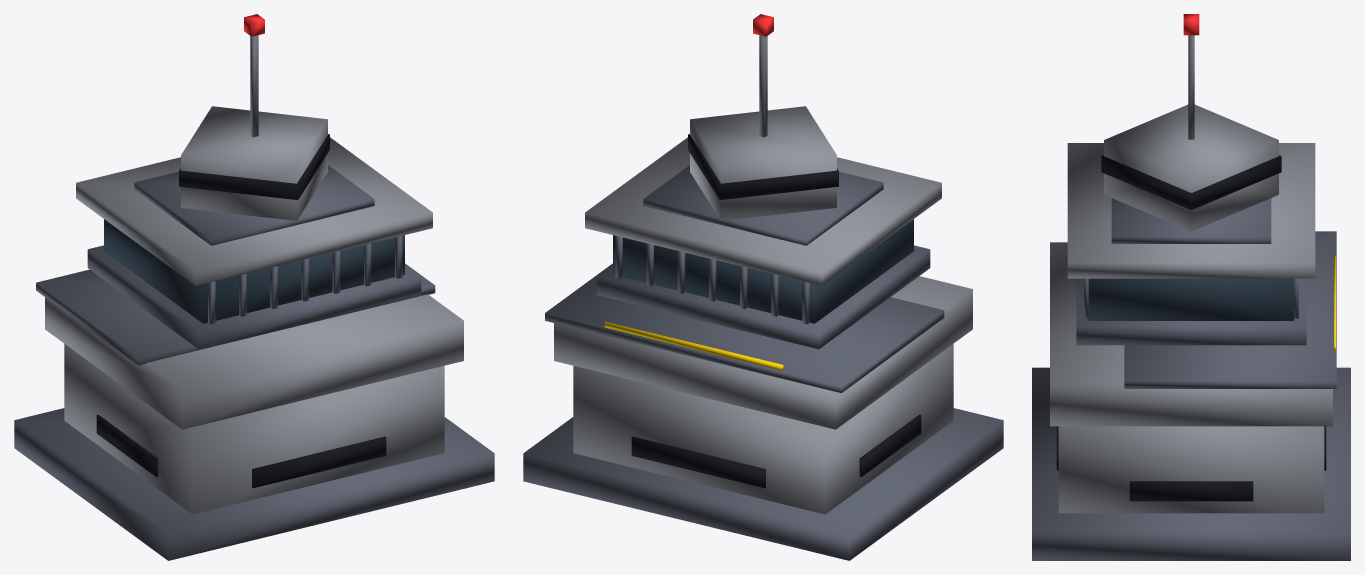
Rendered from kurogane_grand_reverse_tower.glb.
3 renders of one model, left to right at view 1: azimuth 30°, elevation 25°; view 2: azimuth 150°, elevation 25°; view 3: azimuth 270°, elevation 25°, orthographic. The views are drawn at different scales.
Visible parts, largest first — view 1: Surface_concrete, Surface_concrete_dark, Surface_glass, Surface_slit, Surface_steel; view 2: Surface_concrete, Surface_concrete_dark, Surface_glass, Surface_slit, Surface_accent, Surface_steel; view 3: Surface_concrete, Surface_concrete_dark, Surface_glass, Surface_slit, Surface_steel.
Part boxes in pixels (x1,y1,x2,y2): Surface_concrete: (45, 106, 463, 514); Surface_concrete_dark: (14, 165, 494, 560); Surface_glass: (104, 219, 404, 323); Surface_slit: (96, 134, 386, 488); Surface_steel: (250, 35, 258, 137); Surface_concrete: (554, 106, 972, 514); Surface_concrete_dark: (523, 165, 1003, 560); Surface_glass: (613, 219, 913, 323); Surface_slit: (631, 134, 921, 488); Surface_accent: (604, 321, 783, 370); Surface_steel: (759, 35, 767, 137); Surface_concrete: (1050, 104, 1332, 513); Surface_concrete_dark: (1032, 198, 1350, 560); Surface_glass: (1088, 278, 1294, 320); Surface_slit: (1056, 155, 1326, 501); Surface_steel: (1188, 35, 1194, 139).
Bounding box in the file's own units: 22 × 28.75 × 18.
